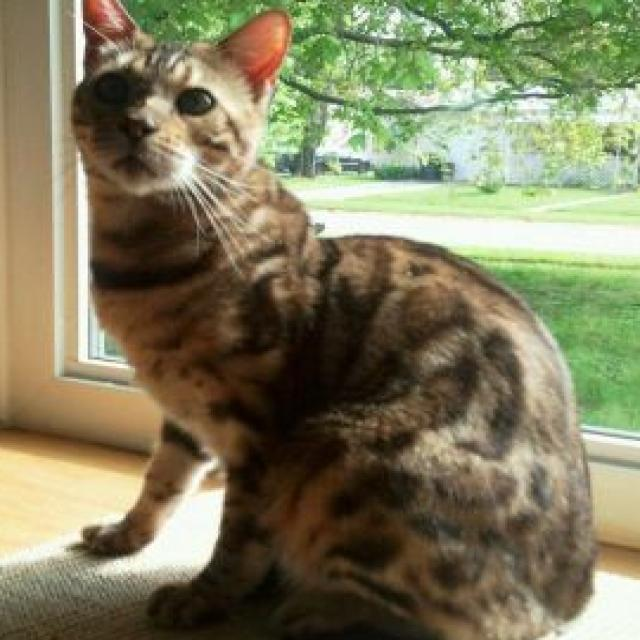Bengal: (57, 0, 597, 640)
